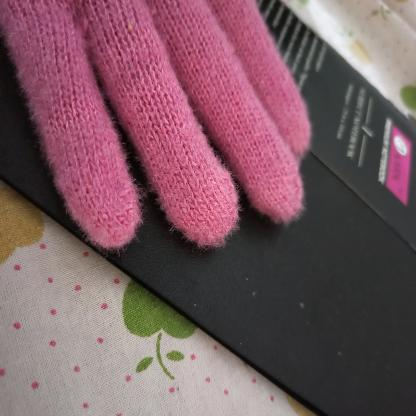gloved_hand: (0, 7, 315, 257)
